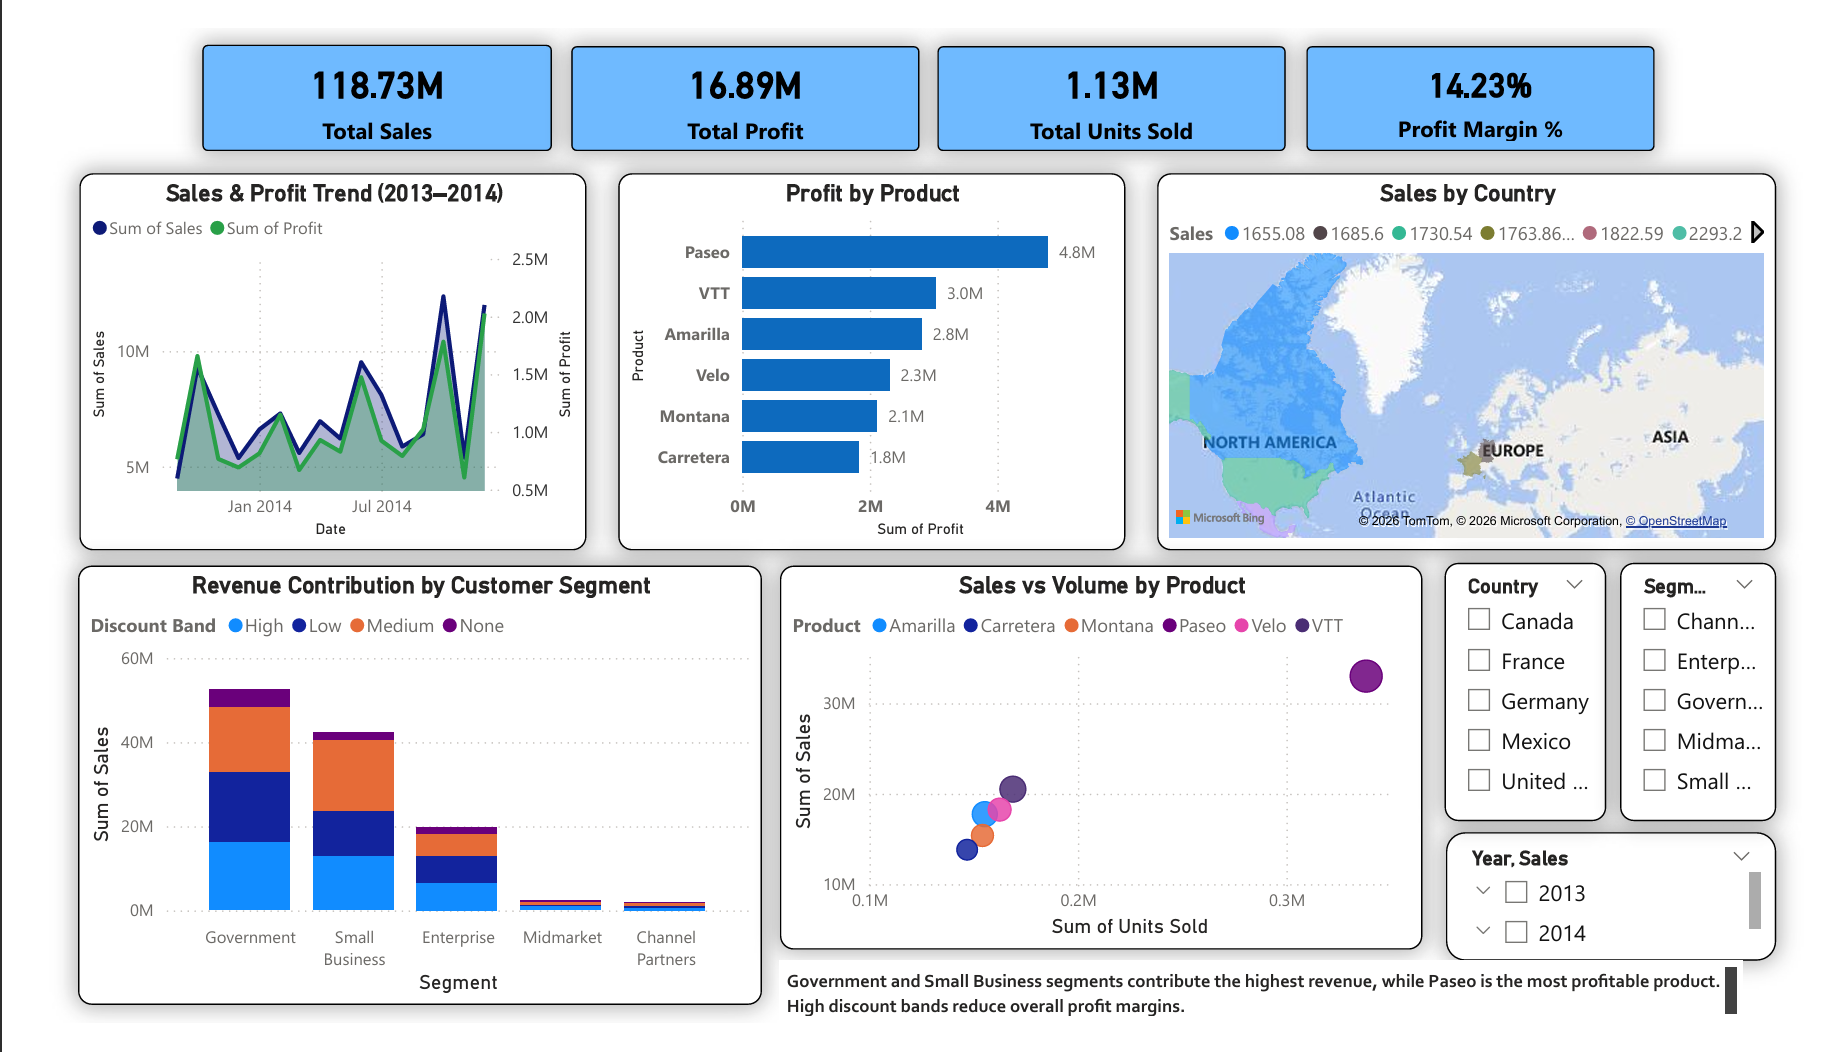

This screenshot's page, from the dashboard's own definition file:
{"tool":"powerbi","page":{"name":"Page 1","canvas":[1280,720],"ordinal":0},"visuals":[{"type":"card","fields":{"Values":["Sum(financials.Sales)"]},"box":[121.2,11.8,252.9,77.6],"z":0},{"type":"lineChart","title":"Sales & Profit Trend (2013–2014)","fields":{"Y":["Sum(financials.Sales)"],"Y2":["Sum(financials.Profit)"],"Category":["financials.Date"]},"box":[31.8,104.7,367.1,272.9],"z":1000},{"type":"filledMap","title":"Sales by Country","fields":{"Category":["financials.Country"],"Series":["financials.Sales"]},"box":[811.8,104.7,448.2,272.9],"z":2000},{"type":"barChart","title":"Profit by Product","fields":{"Category":["financials.Product"],"Y":["Sum(financials.Profit)"]},"box":[422.4,104.7,367.1,272.9],"z":3000},{"type":"columnChart","title":"Revenue Contribution by Customer Segment","fields":{"Category":["financials.Segment"],"Y":["Sum(financials.Sales)"],"Series":["financials.Discount Band"]},"box":[31.4,388.6,494.3,318.6],"z":4000},{"type":"scatterChart","title":"Sales vs Volume by Product","fields":{"X":["Sum(financials.Units Sold)"],"Y":["Sum(financials.Sales)"],"Size":["Sum(financials.Profit)"],"Series":["financials.Product"]},"box":[538.6,388.6,465.7,278.6],"z":5000},{"type":"slicer","fields":{"Values":["financials.Date.Variation.Date Hierarchy.Year","financials.Sales"]},"box":[1021.2,581.6,238.9,93.6],"z":6000},{"type":"slicer","fields":{"Values":["financials.Country"]},"box":[1020,387.1,117.1,187.1],"z":7000},{"type":"slicer","fields":{"Values":["financials.Segment"]},"box":[1147.1,387.1,112.9,187.1],"z":8000},{"type":"textbox","box":[538.8,675.1,697.7,45.1],"z":9000},{"type":"card","fields":{"Values":["Sum(financials.Profit)"]},"box":[388.2,12.9,251.8,76.5],"z":10000},{"type":"card","fields":{"Values":["Sum(financials.Units Sold)"]},"box":[652.9,12.9,251.8,76.5],"z":11000},{"type":"card","fields":{"Values":["financials.Profit Margin new %"]},"box":[920,12.9,251.8,76],"z":12000}]}

Visuals, with their boxes in screenshot pixels (x1, y1, x2, y2), scaled from the page's 1280x720 canvas onto the 1835x1052 screenshot:
card - Sum(financials.Sales): region(174, 17, 536, 131)
"Sales & Profit Trend (2013–2014)" lineChart: region(46, 153, 572, 552)
"Sales by Country" filledMap: region(1164, 153, 1806, 552)
"Profit by Product" barChart: region(606, 153, 1132, 552)
"Revenue Contribution by Customer Segment" columnChart: region(45, 568, 754, 1033)
"Sales vs Volume by Product" scatterChart: region(772, 568, 1440, 975)
slicer - financials.Date.Variation.Date Hierarchy.Year x financials.Sales: region(1464, 850, 1806, 987)
slicer - financials.Country: region(1462, 566, 1630, 839)
slicer - financials.Segment: region(1644, 566, 1806, 839)
textbox: region(772, 986, 1773, 1051)
card - Sum(financials.Profit): region(557, 19, 918, 131)
card - Sum(financials.Units Sold): region(936, 19, 1297, 131)
card - financials.Profit Margin new %: region(1319, 19, 1680, 130)
